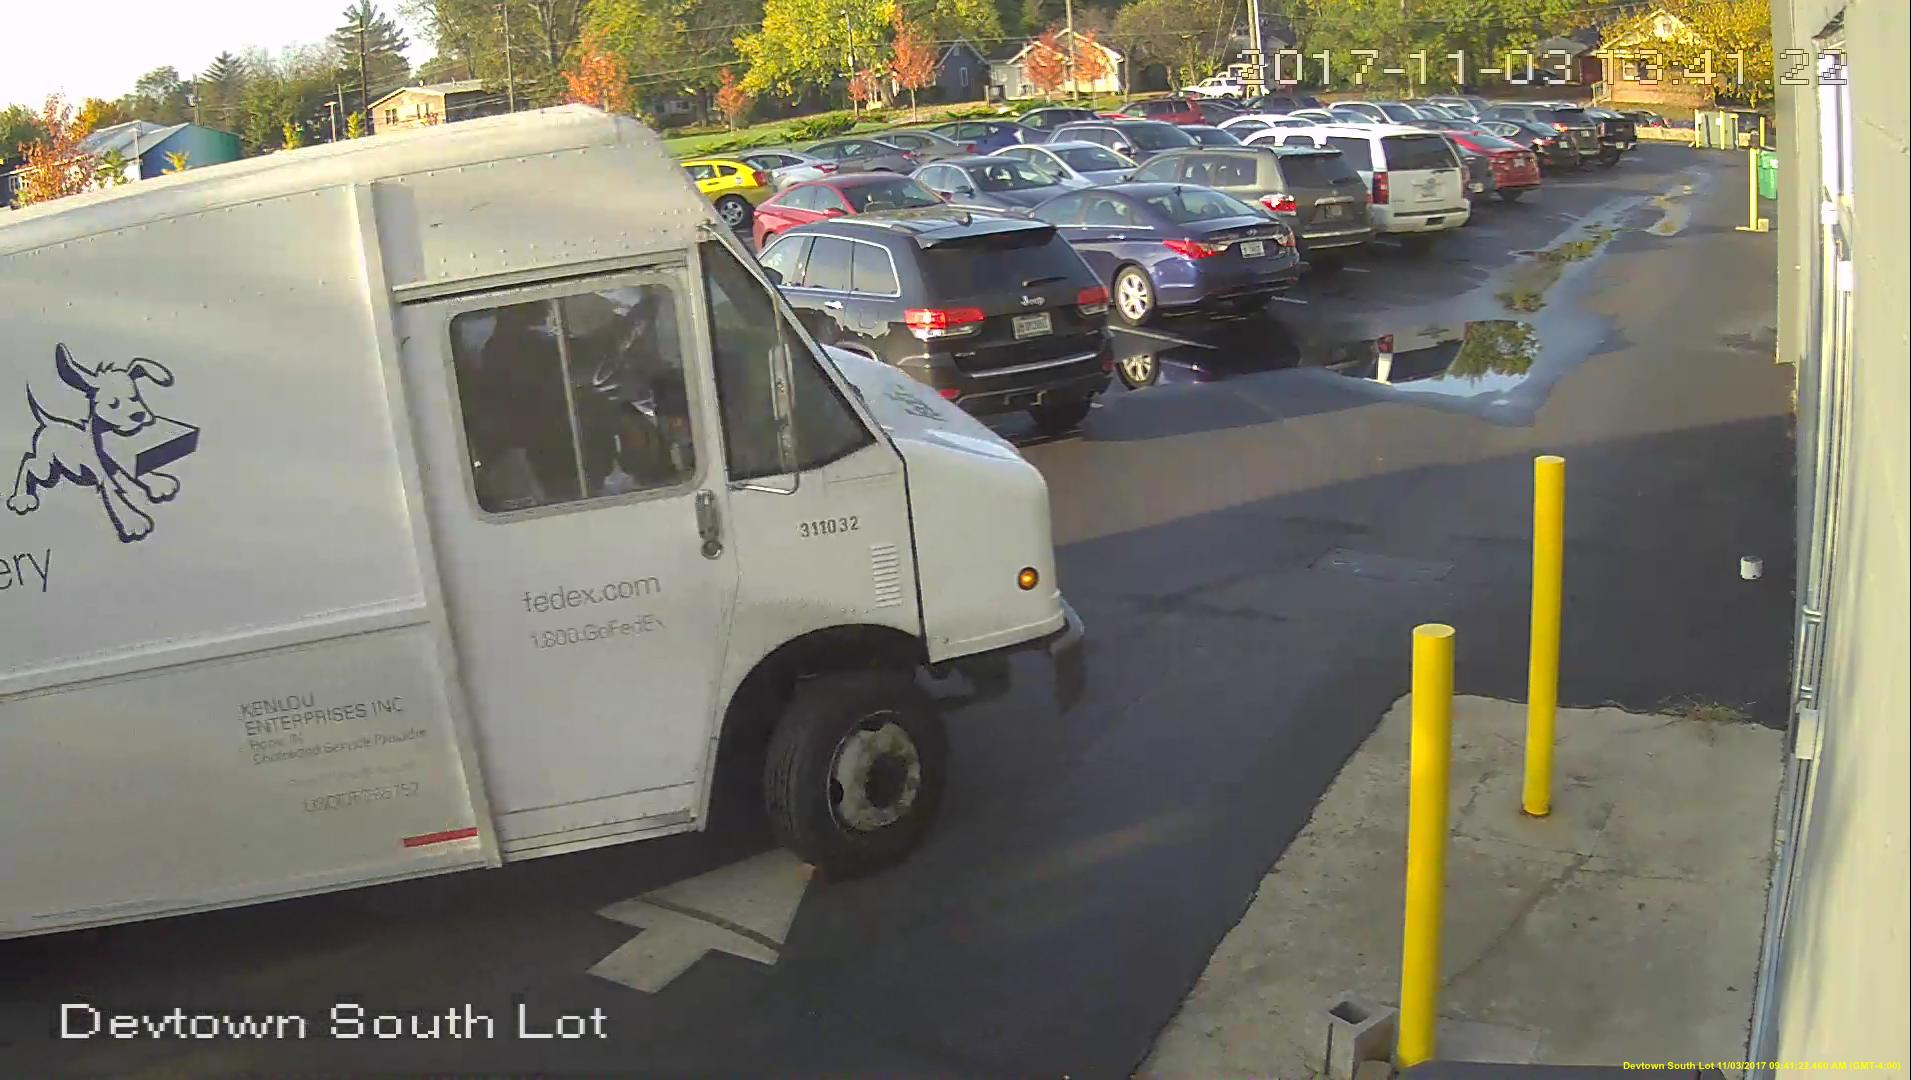fedex_truck: (4, 106, 1093, 951)
